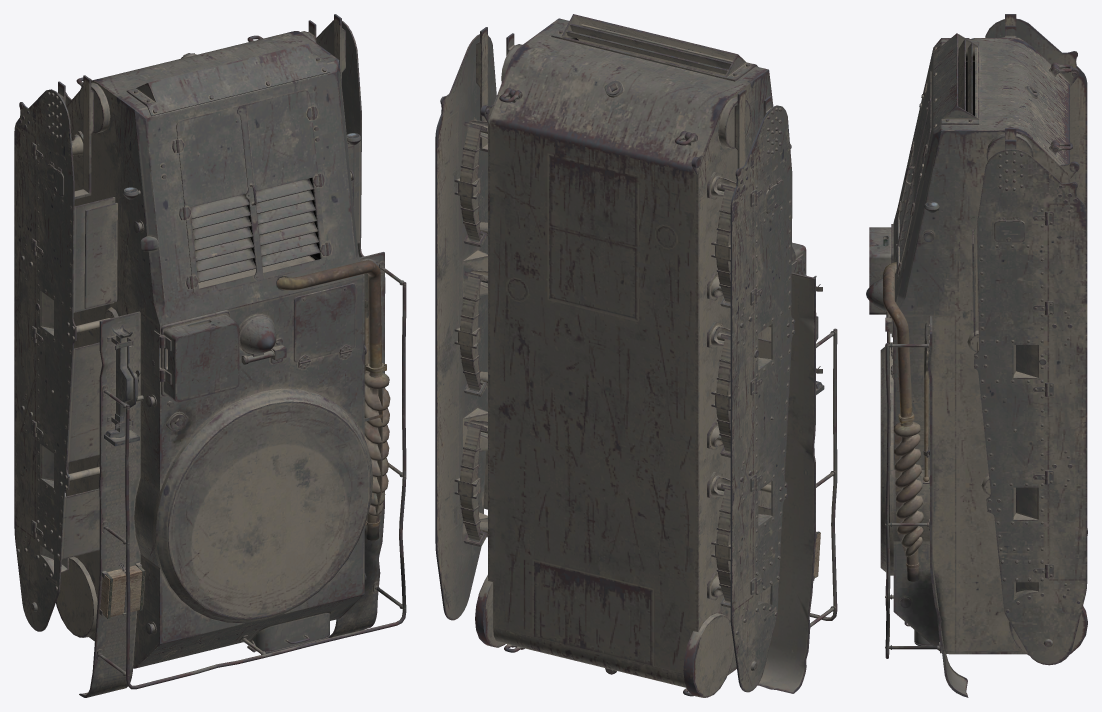
Rendered from Hull.glb.
The picture shows the model from 3 angles, left to right: view 1: azimuth 30°, elevation 25°; view 2: azimuth 150°, elevation 25°; view 3: azimuth 270°, elevation 25°; orthographic projection. The views are drawn at different scales.
Parts seen in each view (by area): view 1: set_0_group_0; view 2: set_0_group_0; view 3: set_0_group_0.
Boxes of the visible parts, <box> form: set_0_group_0: <box>14,14,406,697</box>; set_0_group_0: <box>435,14,837,697</box>; set_0_group_0: <box>866,14,1087,697</box>.
Bounding box in the file's own units: 2.11 × 4.16 × 1.48.
Materials: 1 (1 with a texture image).
